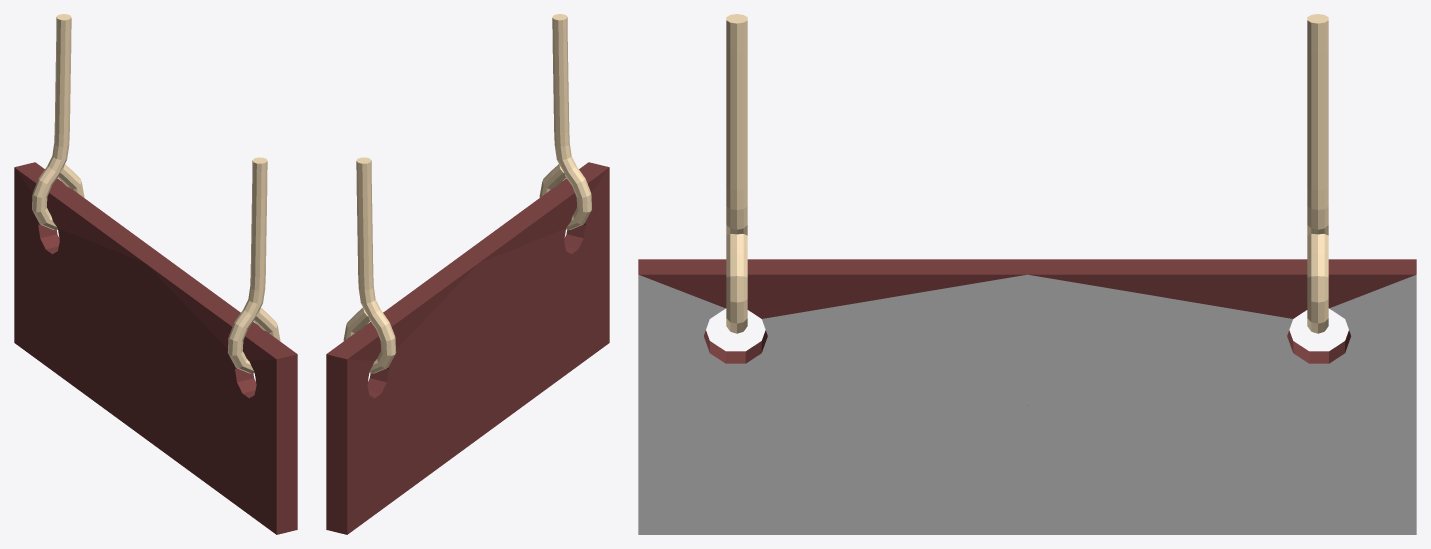
The model's file is cartelToni.fbx.
The picture shows the model from 3 angles, left to right: view 1: azimuth 30°, elevation 25°; view 2: azimuth 150°, elevation 25°; view 3: azimuth 270°, elevation 25°; orthographic projection. The views are drawn at different scales.
Parts seen in each view (by area): view 1: Cube, Cylinder; view 2: Cube, Cylinder; view 3: Cube, Cylinder.
Part boxes in pixels (x1,y1,x2,y2): Cube: (14, 162, 297, 534); Cylinder: (32, 14, 280, 373); Cube: (326, 162, 609, 534); Cylinder: (343, 14, 591, 373); Cube: (638, 259, 1416, 534); Cylinder: (726, 14, 1328, 333).
Bounding box in the file's own units: 38.24 × 250 × 344.
